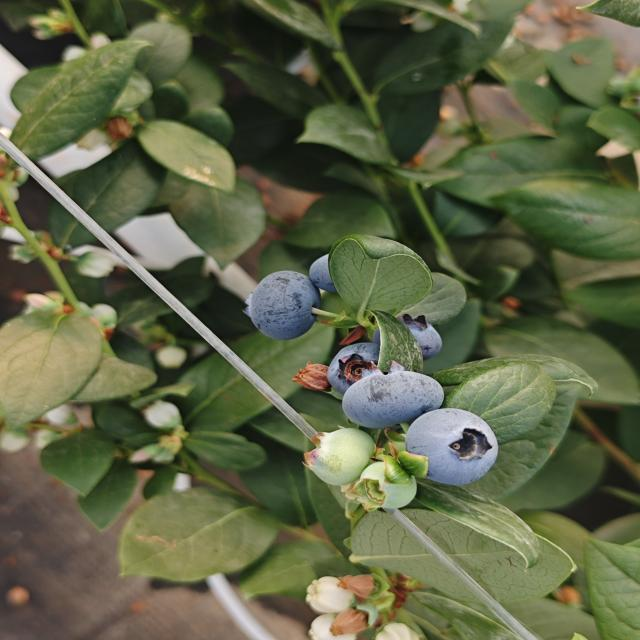ripe: (402, 407, 501, 488), (339, 368, 446, 430), (243, 269, 322, 342), (387, 313, 450, 364), (326, 338, 377, 389), (306, 248, 358, 298)
